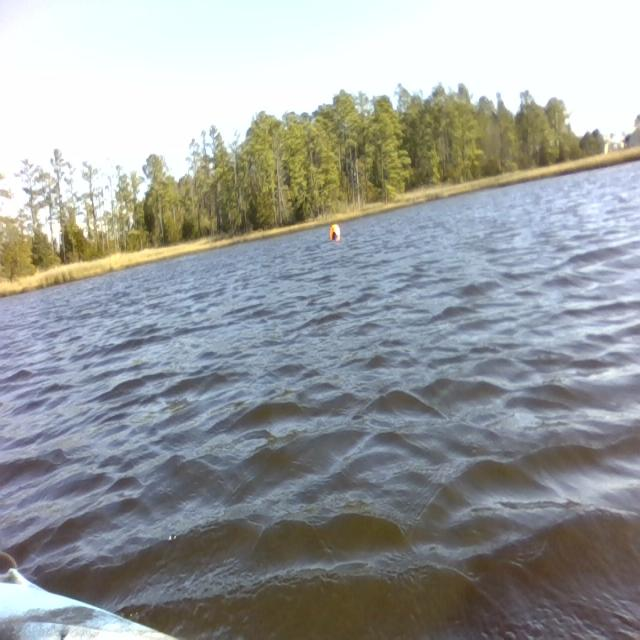Buoy: (325, 218, 347, 248)
